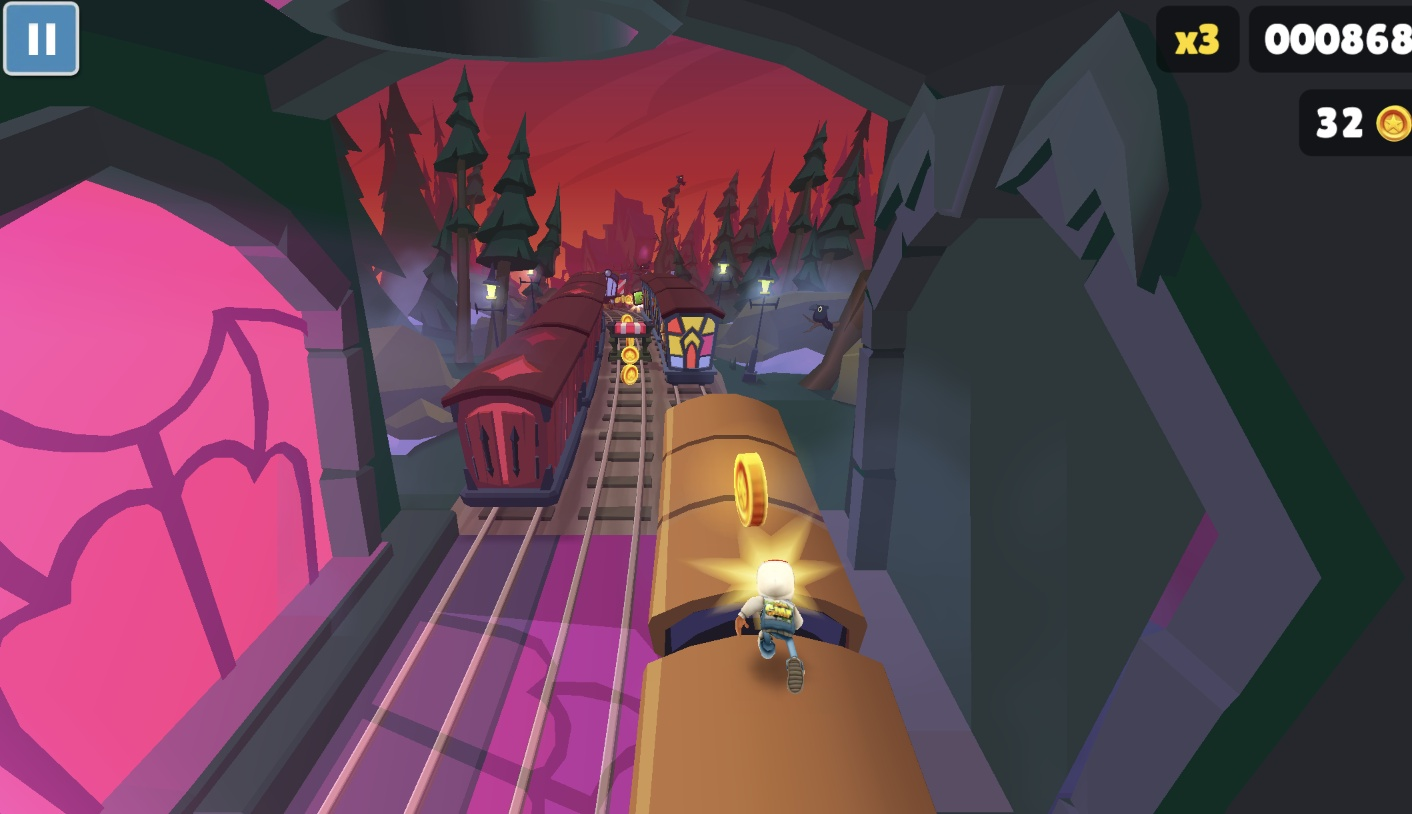ground_barrier: (609, 321, 650, 359)
overhead_barrier: (617, 272, 629, 296)
train: (631, 400, 932, 814), (433, 275, 609, 517), (639, 275, 726, 388), (603, 268, 627, 302)
